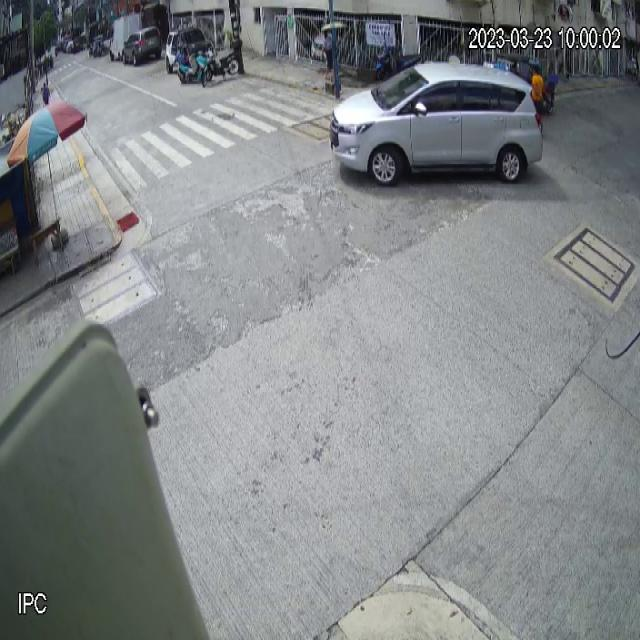Car: (327, 60, 545, 186)
